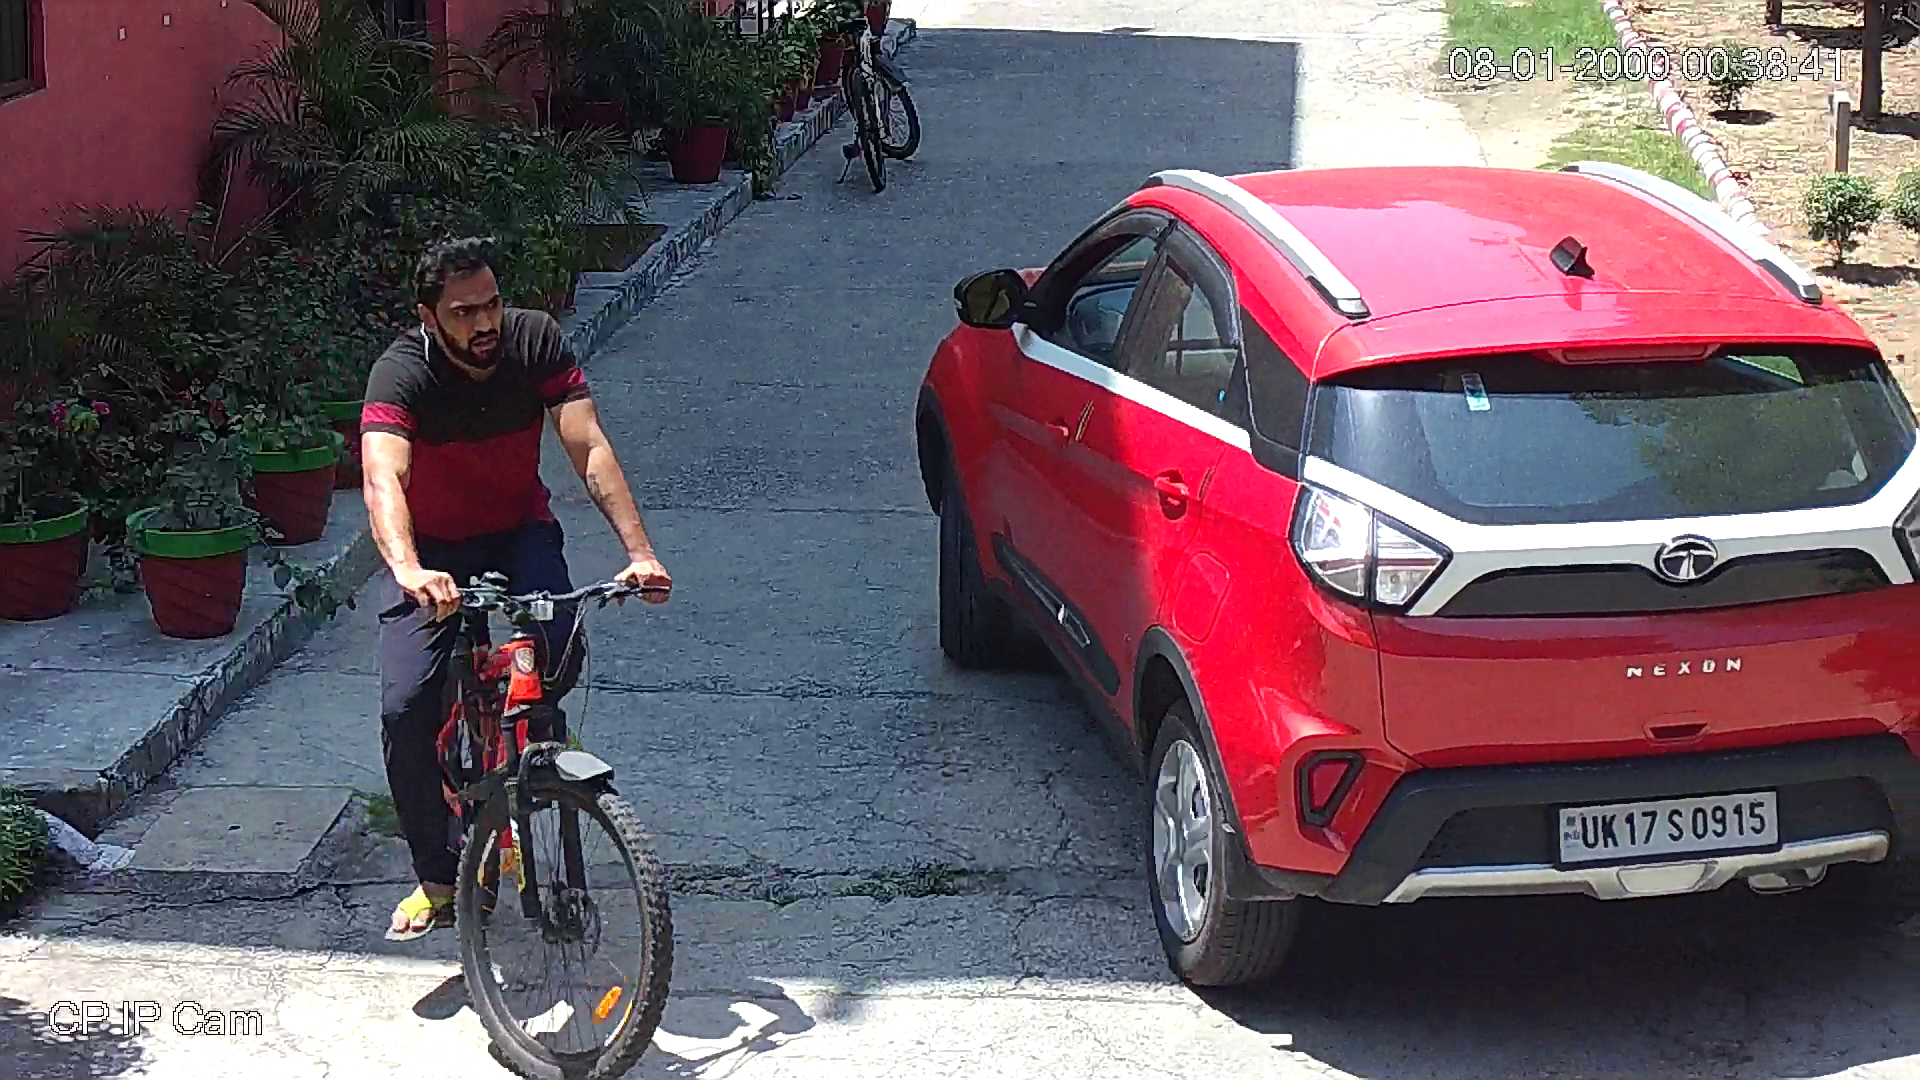plate: (1552, 779, 1784, 871)
